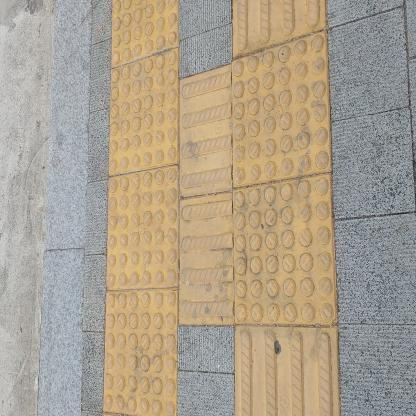podotacti: (95, 0, 349, 415)
